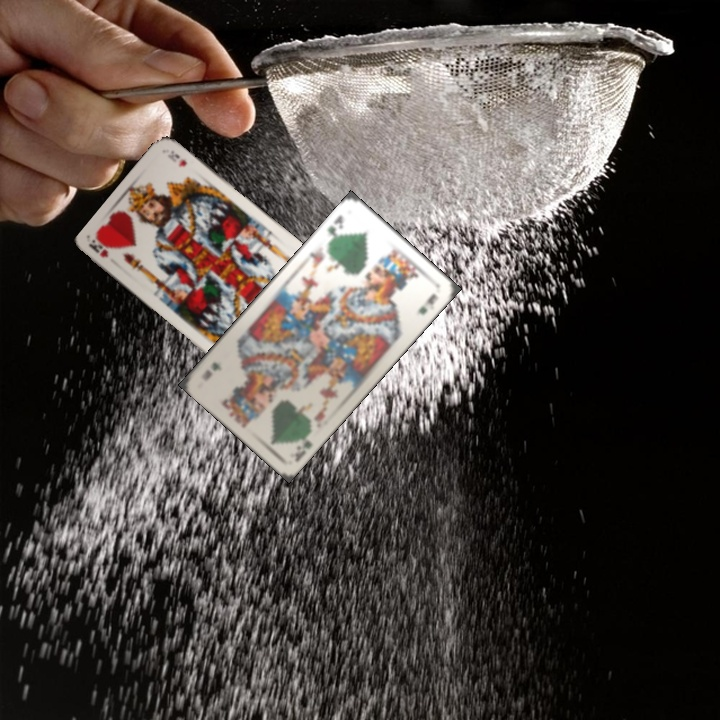GK: (291, 428, 315, 465), (323, 211, 346, 244)
HK: (87, 236, 111, 260)
